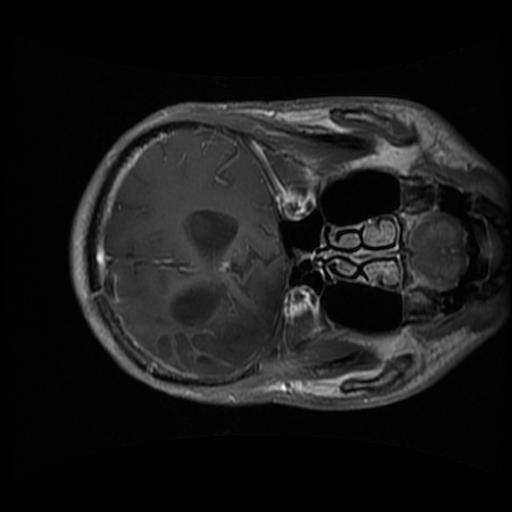glioma: (157, 265, 284, 379)
